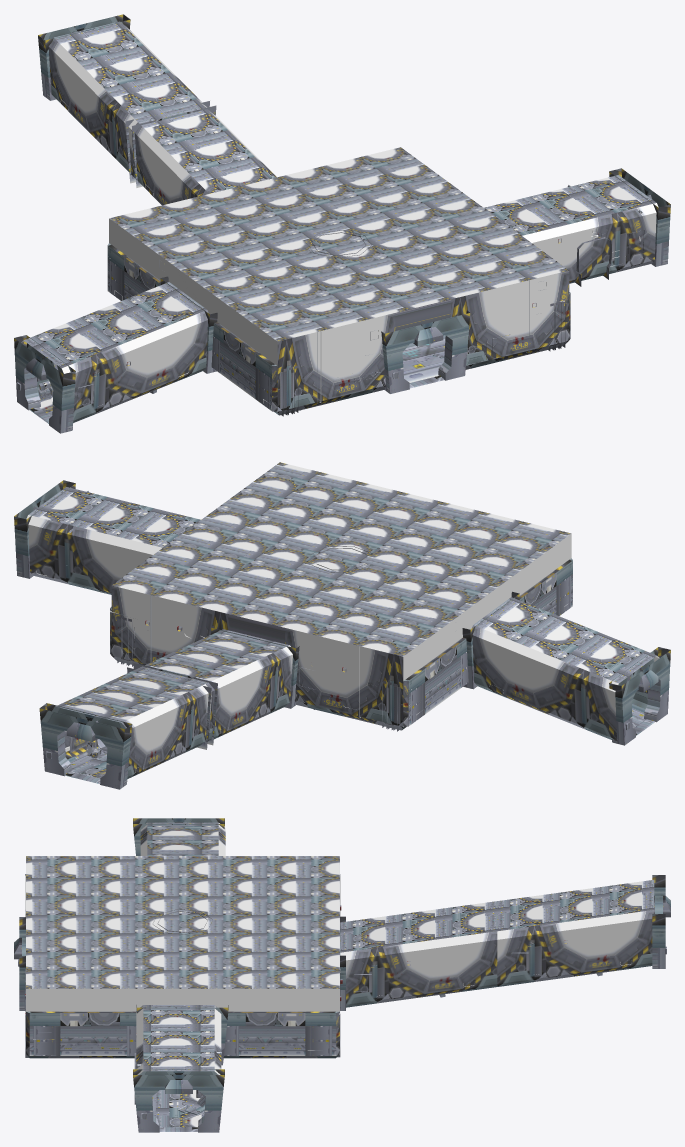
Rendered from Combined_Mesh_root_scene__11_1f1e19ed__ZombiesII_laboratory_07_d_a6872bb1_c1f257.obj.
The picture shows the model from 3 angles, top to bottom: view 1: azimuth 30°, elevation 25°; view 2: azimuth 150°, elevation 25°; view 3: azimuth 270°, elevation 25°; orthographic projection. The views are drawn at different scales.
Size of the model in its own units: 84.66 by 16.88 by 83.67.
291 materials, 291 textured.
